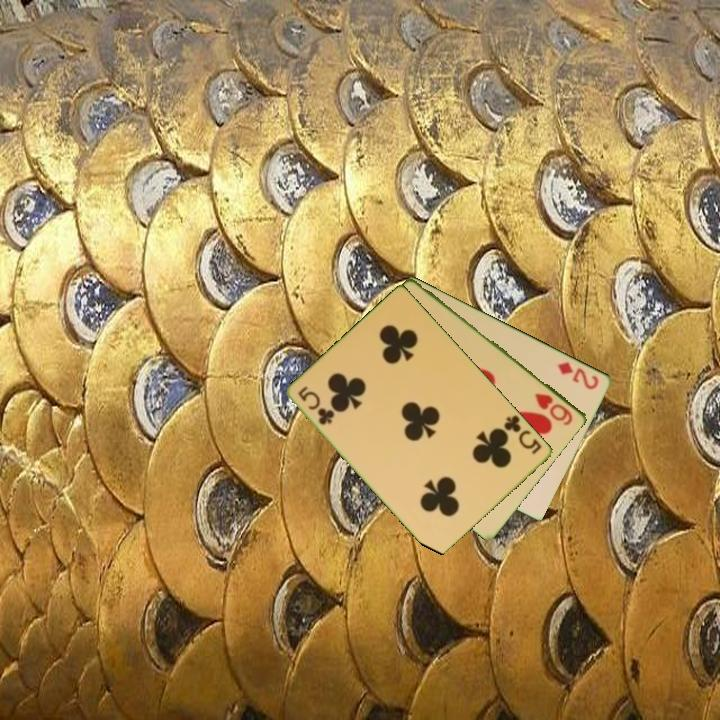2d: (554, 358, 602, 392)
5c: (499, 411, 545, 457), (295, 383, 338, 428)
6h: (531, 389, 576, 429)
